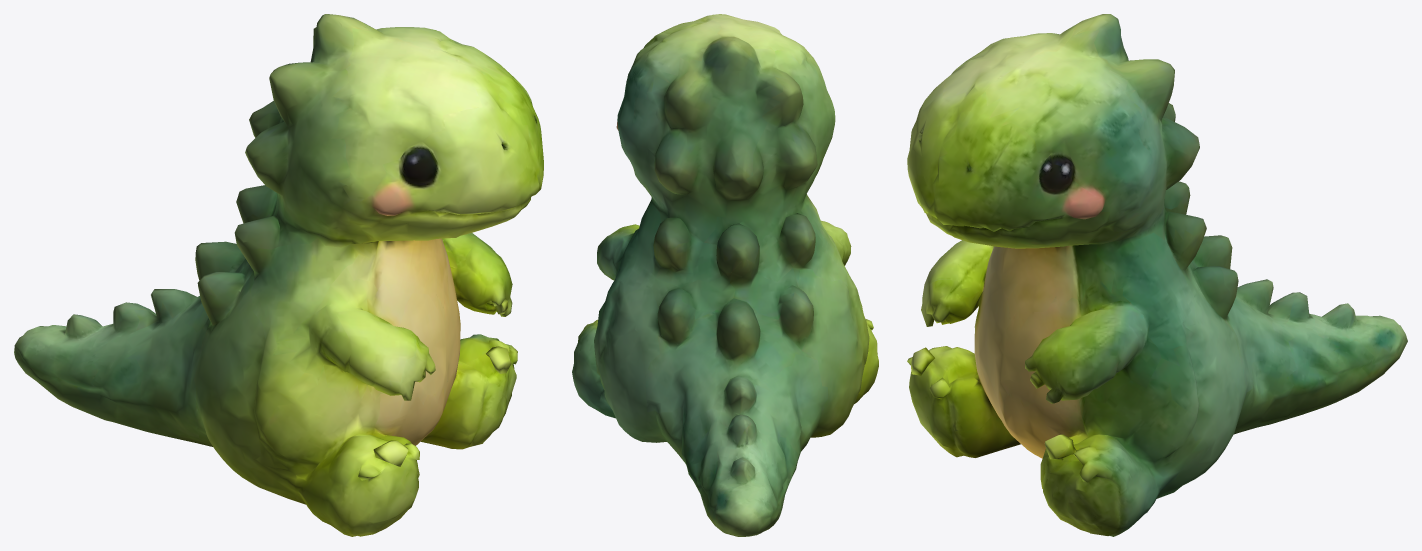
File: dino.glb
3 views of the same model, side by side, from view 1: azimuth 30°, elevation 25°; view 2: azimuth 150°, elevation 25°; view 3: azimuth 270°, elevation 25° (orthographic). The views are drawn at different scales.
Parts seen in each view (by area): view 1: tripo_node_d7f3c45d-174c-4671-b72f-6b605f4fe1f9; view 2: tripo_node_d7f3c45d-174c-4671-b72f-6b605f4fe1f9; view 3: tripo_node_d7f3c45d-174c-4671-b72f-6b605f4fe1f9.
Part boxes in pixels (x1,y1,x2,y2): tripo_node_d7f3c45d-174c-4671-b72f-6b605f4fe1f9: (14,14,543,536); tripo_node_d7f3c45d-174c-4671-b72f-6b605f4fe1f9: (572,14,878,536); tripo_node_d7f3c45d-174c-4671-b72f-6b605f4fe1f9: (907,14,1407,536).
Bounding box in the file's own units: 0.8112 × 0.9871 × 1.
Materials: 1 (1 with a texture image).
